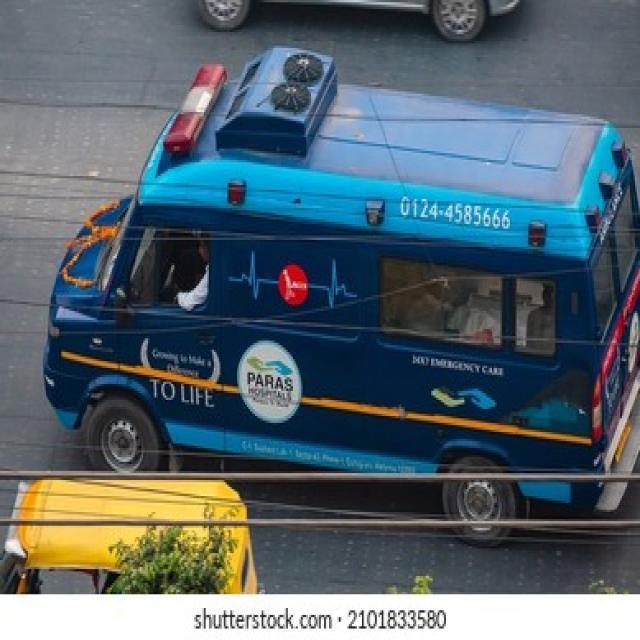ambulance: (41, 58, 633, 514)
